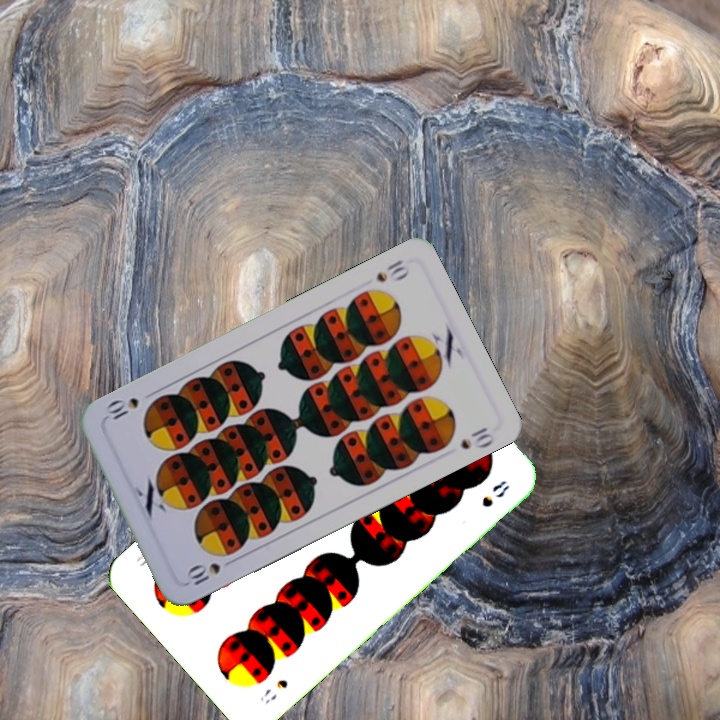S10: (182, 554, 239, 588), (371, 255, 413, 285)
S8: (255, 675, 291, 706)
